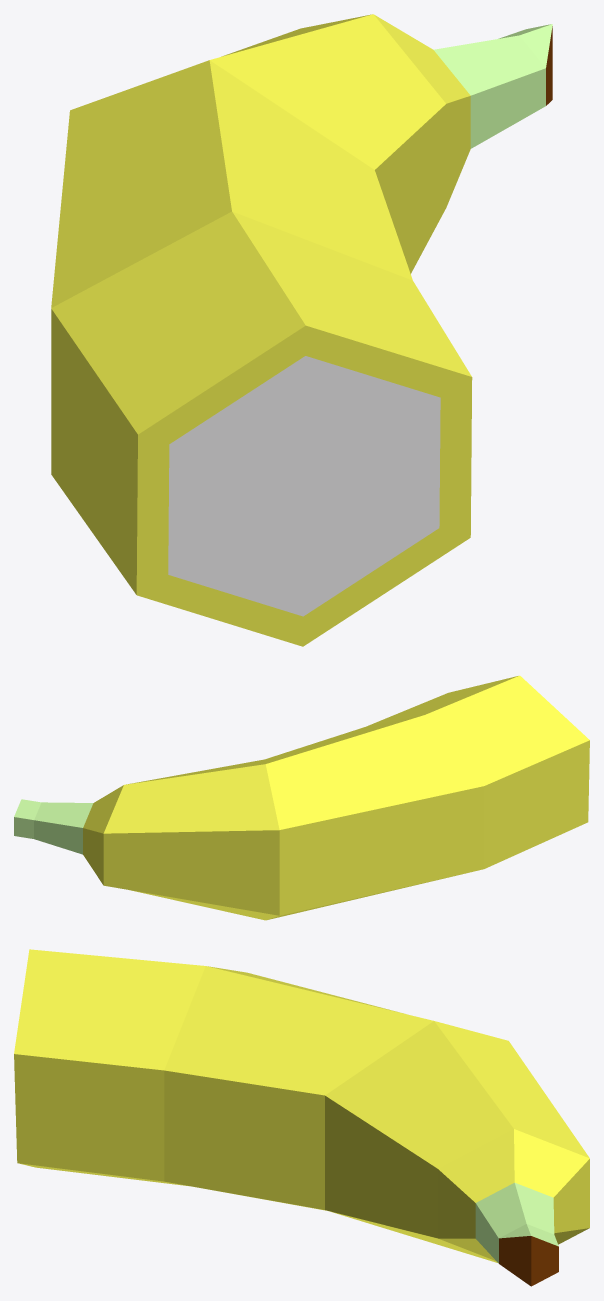
The model's file is banana02.gltf.
3 renders of one model, top to bottom at view 1: azimuth 30°, elevation 25°; view 2: azimuth 150°, elevation 25°; view 3: azimuth 270°, elevation 25°, orthographic. The views are drawn at different scales.
Visible parts, largest first — view 1: Cylinder; view 2: Cylinder; view 3: Cylinder.
Boxes of the visible parts, <box> form: Cylinder: <box>51,14,552,646</box>; Cylinder: <box>14,675,589,920</box>; Cylinder: <box>14,949,589,1286</box>.
Bounding box in the file's own units: 0.1103 × 0.0451 × 0.106.
1 material, 1 textured.
